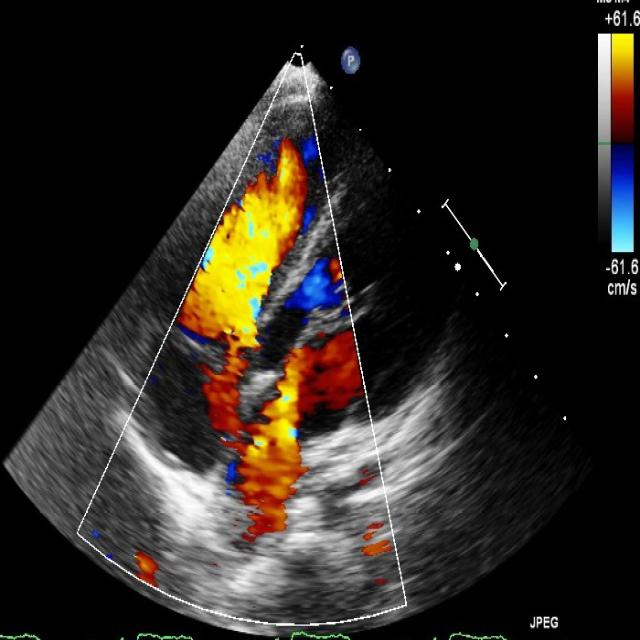ASDType2: (202, 359, 308, 493)
